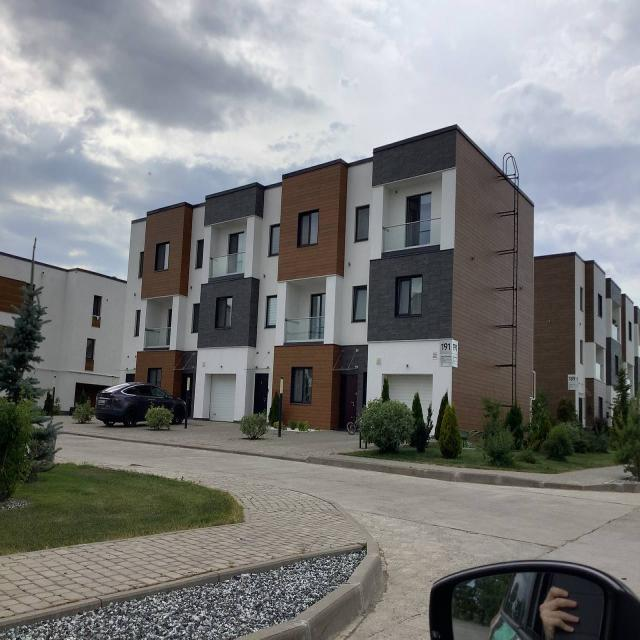Building: (122, 125, 534, 441)
